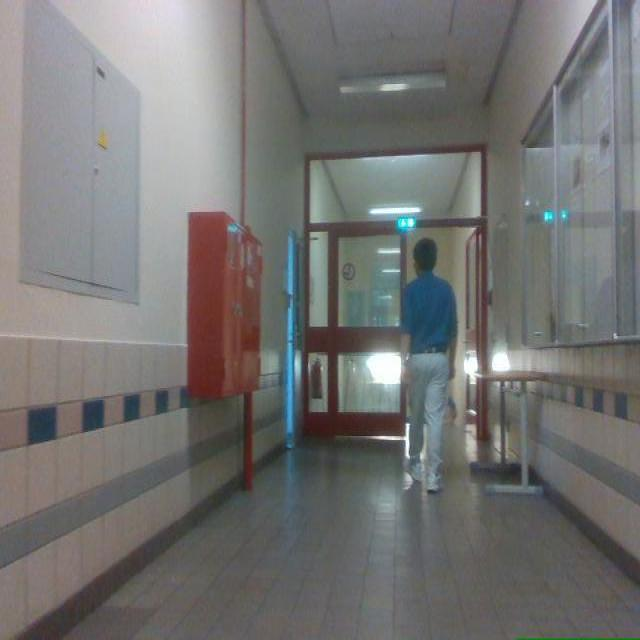humans: (402, 239, 456, 491)
objects: (475, 371, 544, 493)
